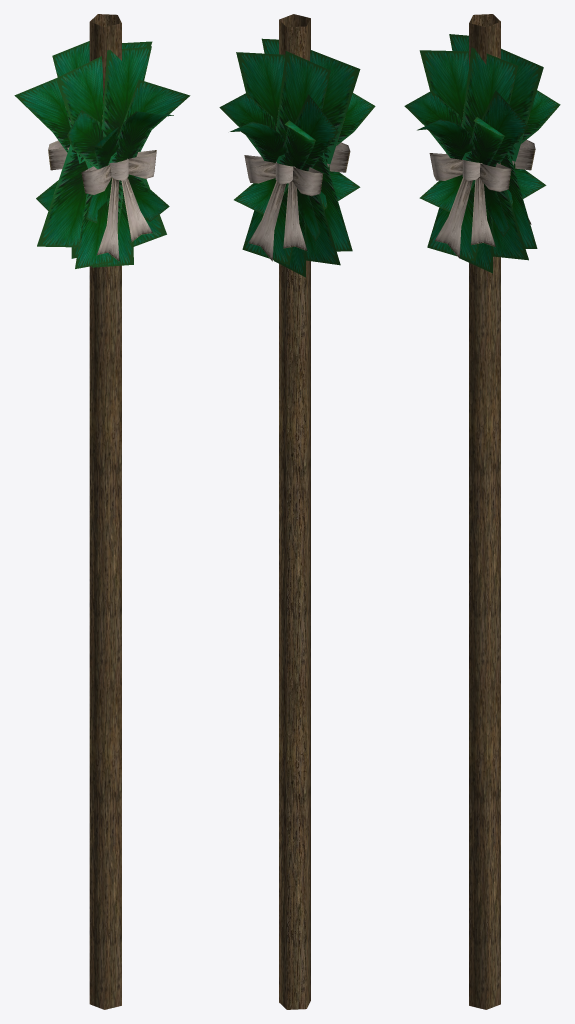
File: pir_m_prp_hol_decopost_winter09.fbx
The picture shows the model from 3 angles, left to right: view 1: azimuth 30°, elevation 25°; view 2: azimuth 150°, elevation 25°; view 3: azimuth 330°, elevation 25°; orthographic projection.
Parts seen in each view (by area): view 1: Post1, leaf_11.001, leaf_03, leaf_02, leaf_04.001, leaf_10, leaf_04, leaf_05, leaf_06, ribbon_left, leaf_08, leaf_03.001 (+8 smaller); view 2: Post1, leaf_03.001, leaf_02.001, leaf_02, leaf_04.001, leaf_10, leaf_11.001, leaf_10.001, leaf_05.001, ribbon_left.001, leaf_01.001, ribbon_right.001 (+9 smaller); view 3: Post1, leaf_03, leaf_02, leaf_04, leaf_02.001, leaf_10, leaf_11, leaf_05, ribbon_left, leaf_01, leaf_10.001, ribbon_right (+9 smaller).
Part boxes in pixels (x1,y1,x2,y2): Post1: (89,14,121,1009); leaf_11.001: (37,144,87,247); leaf_03: (102,46,151,136); leaf_02: (55,56,103,168); leaf_04.001: (14,78,70,152); leaf_10: (75,180,122,268); leaf_04: (108,79,190,164); leaf_05: (67,110,104,169); leaf_06: (118,111,173,160); ribbon_left: (97,177,119,261); leaf_08: (123,174,169,221); leaf_03.001: (52,41,89,163); Post1: (279,14,310,1009); leaf_03.001: (276,51,330,141); leaf_02.001: (236,52,284,126); leaf_02: (310,49,360,164); leaf_04.001: (276,94,338,171); leaf_10: (313,152,352,251); leaf_11.001: (306,194,340,265); leaf_10.001: (242,187,292,264); leaf_05.001: (219,93,277,157); ribbon_left.001: (248,181,285,261); leaf_01.001: (230,121,288,162); ribbon_right.001: (283,181,307,251); Post1: (469,14,500,1009); leaf_03: (462,47,518,138); leaf_02: (419,50,468,153); leaf_04: (462,90,528,166); leaf_02.001: (501,48,543,161); leaf_10: (427,183,478,261); leaf_11: (493,190,528,260); leaf_05: (404,91,462,155); ribbon_left: (434,177,472,258); leaf_01: (417,119,475,159); leaf_10.001: (501,151,537,248); ribbon_right: (471,177,495,246).
Size of the model in its own units: 148 by 1050 by 123.
2 materials, 2 textured.
